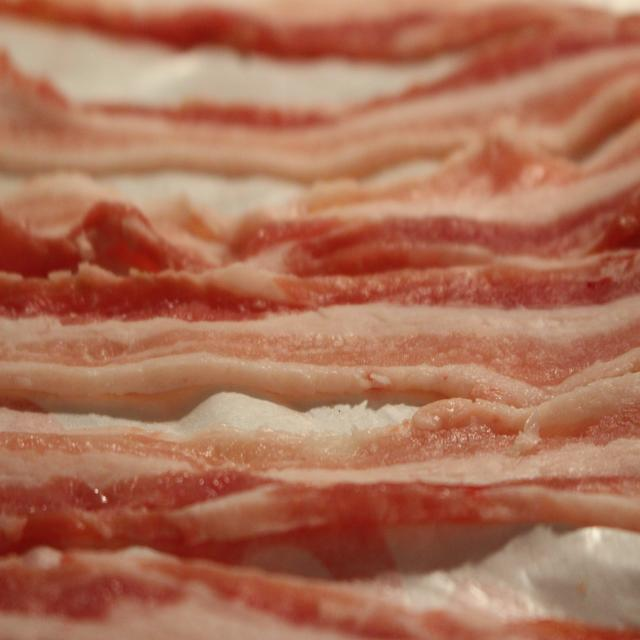Bacon Slice: (6, 18, 639, 631)
